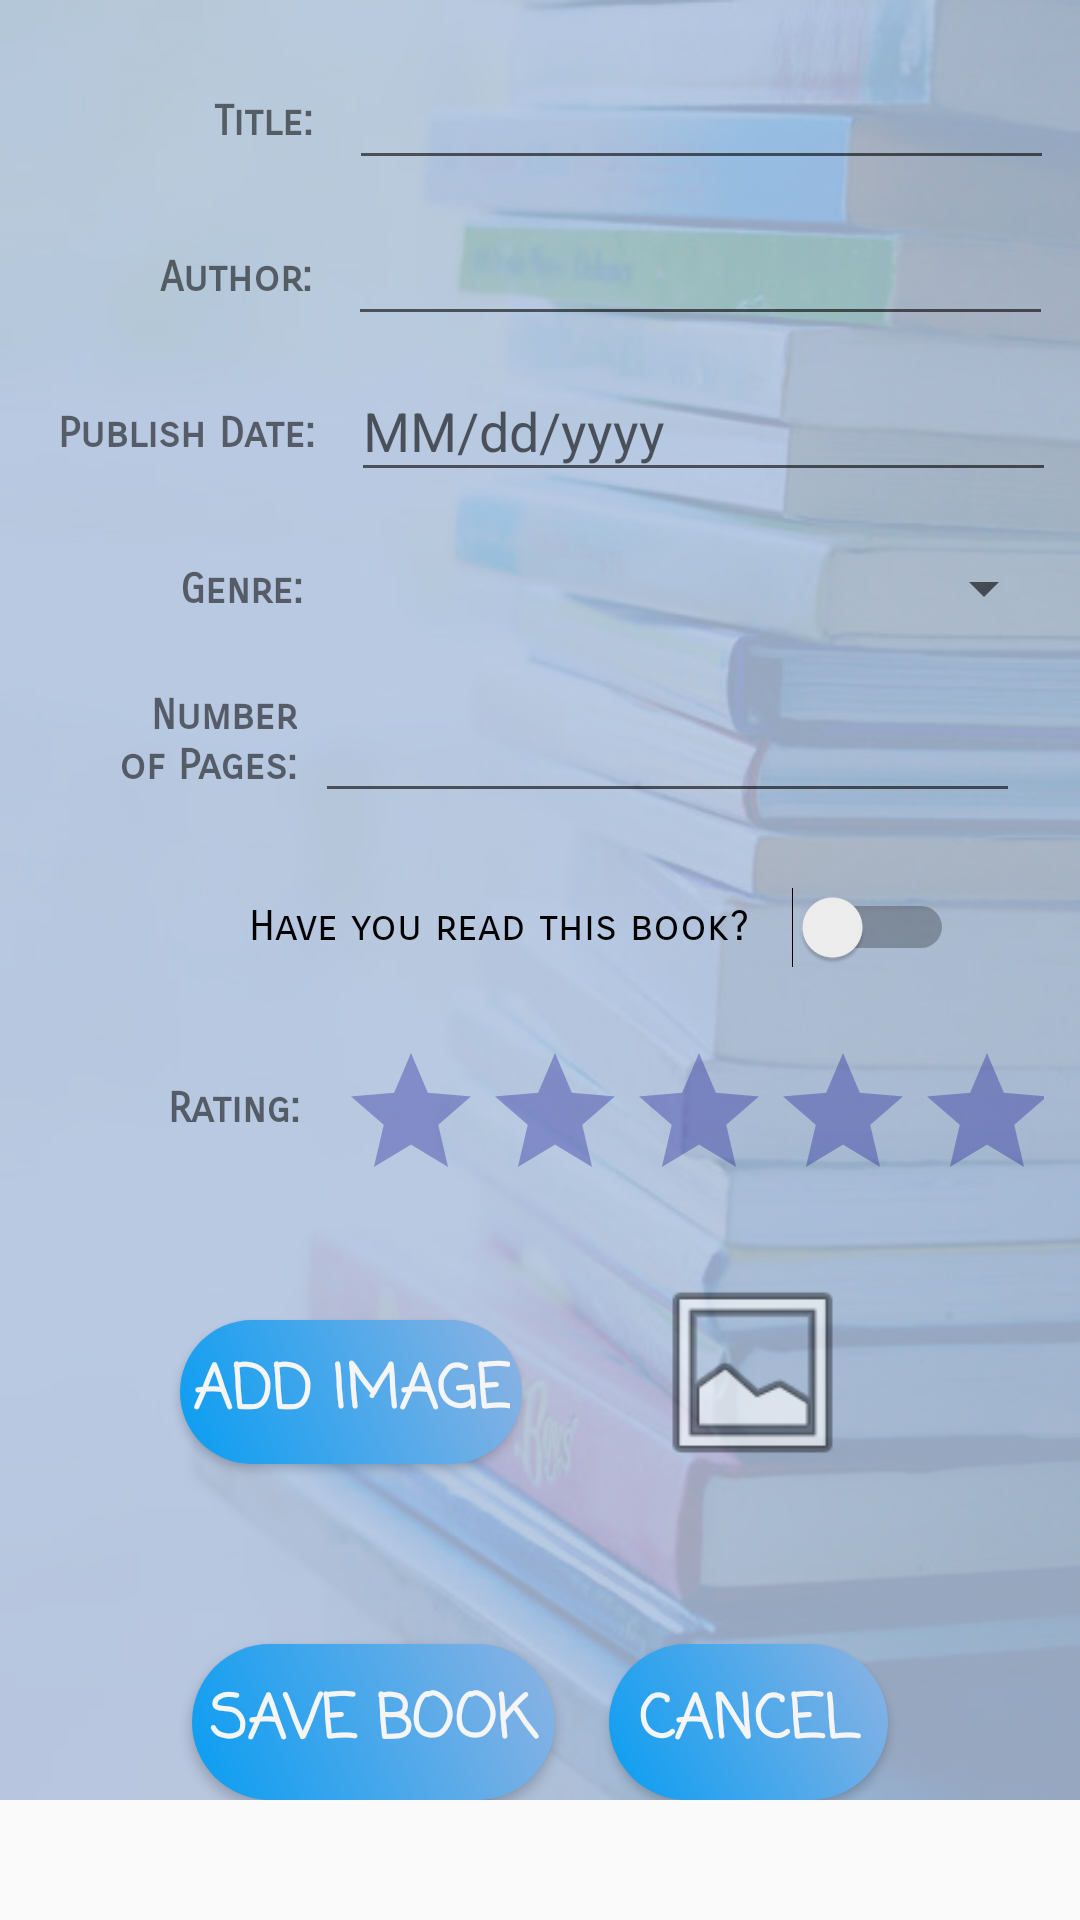

Named icons in this screenshot (1080x1920) and their centers, point (x, y):
gallery: point (752, 1372)
